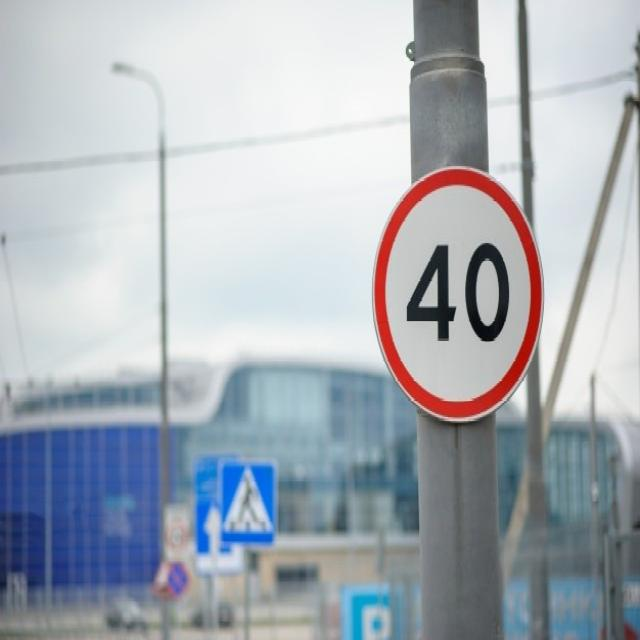Speed Limit -40-: (405, 240, 512, 344)
